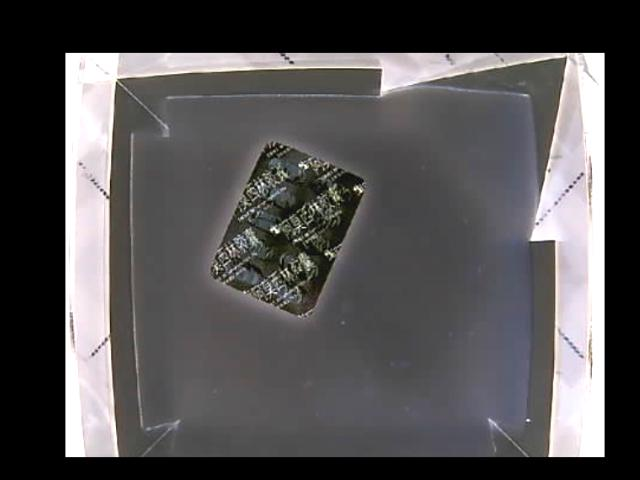Medicine: (211, 142, 365, 319)
